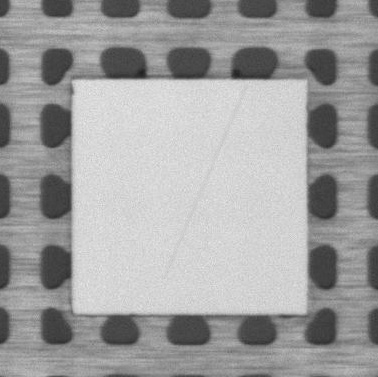DIE_CRACK: (164, 86, 247, 277)
